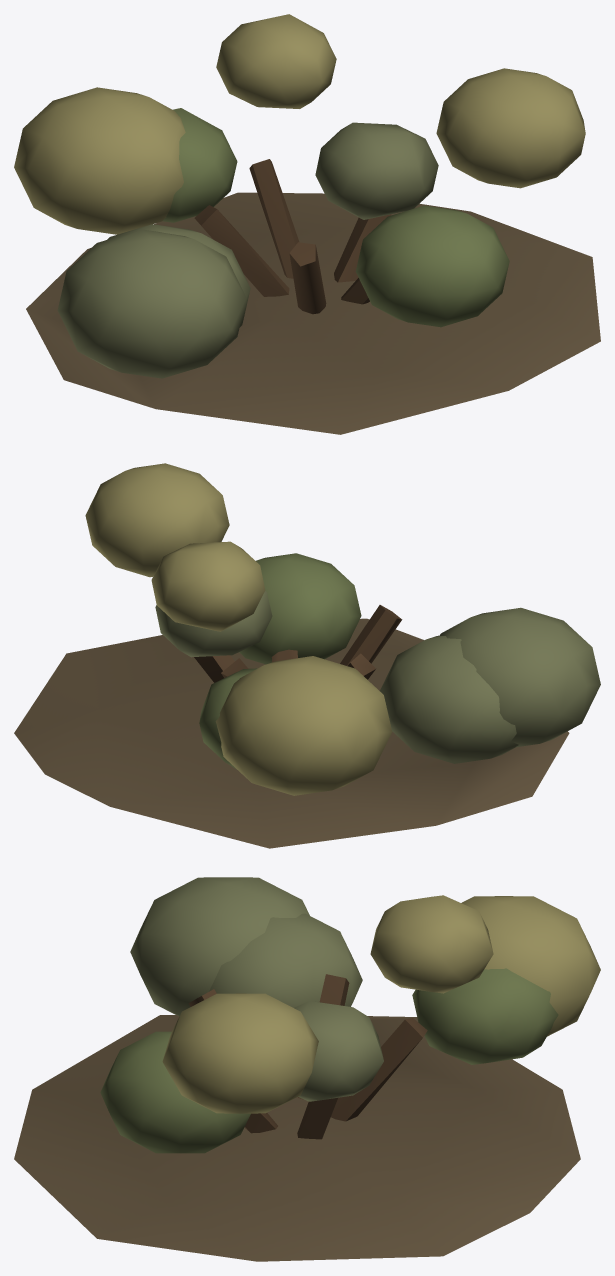
Rendered from saltbush_b_lod1.glb.
3 renders of one model, top to bottom at view 1: azimuth 30°, elevation 25°; view 2: azimuth 150°, elevation 25°; view 3: azimuth 270°, elevation 25°, orthographic. The views are drawn at different scales.
Visible parts, largest first — view 1: Surface.001; view 2: Surface.001; view 3: Surface.001.
Part boxes in pixels (bbox=[...]): Surface.001: bbox=[14, 14, 600, 434]; Surface.001: bbox=[14, 463, 600, 848]; Surface.001: bbox=[14, 877, 600, 1261].
Bounding box in the file's own units: 1.88 × 0.9161 × 1.71.
